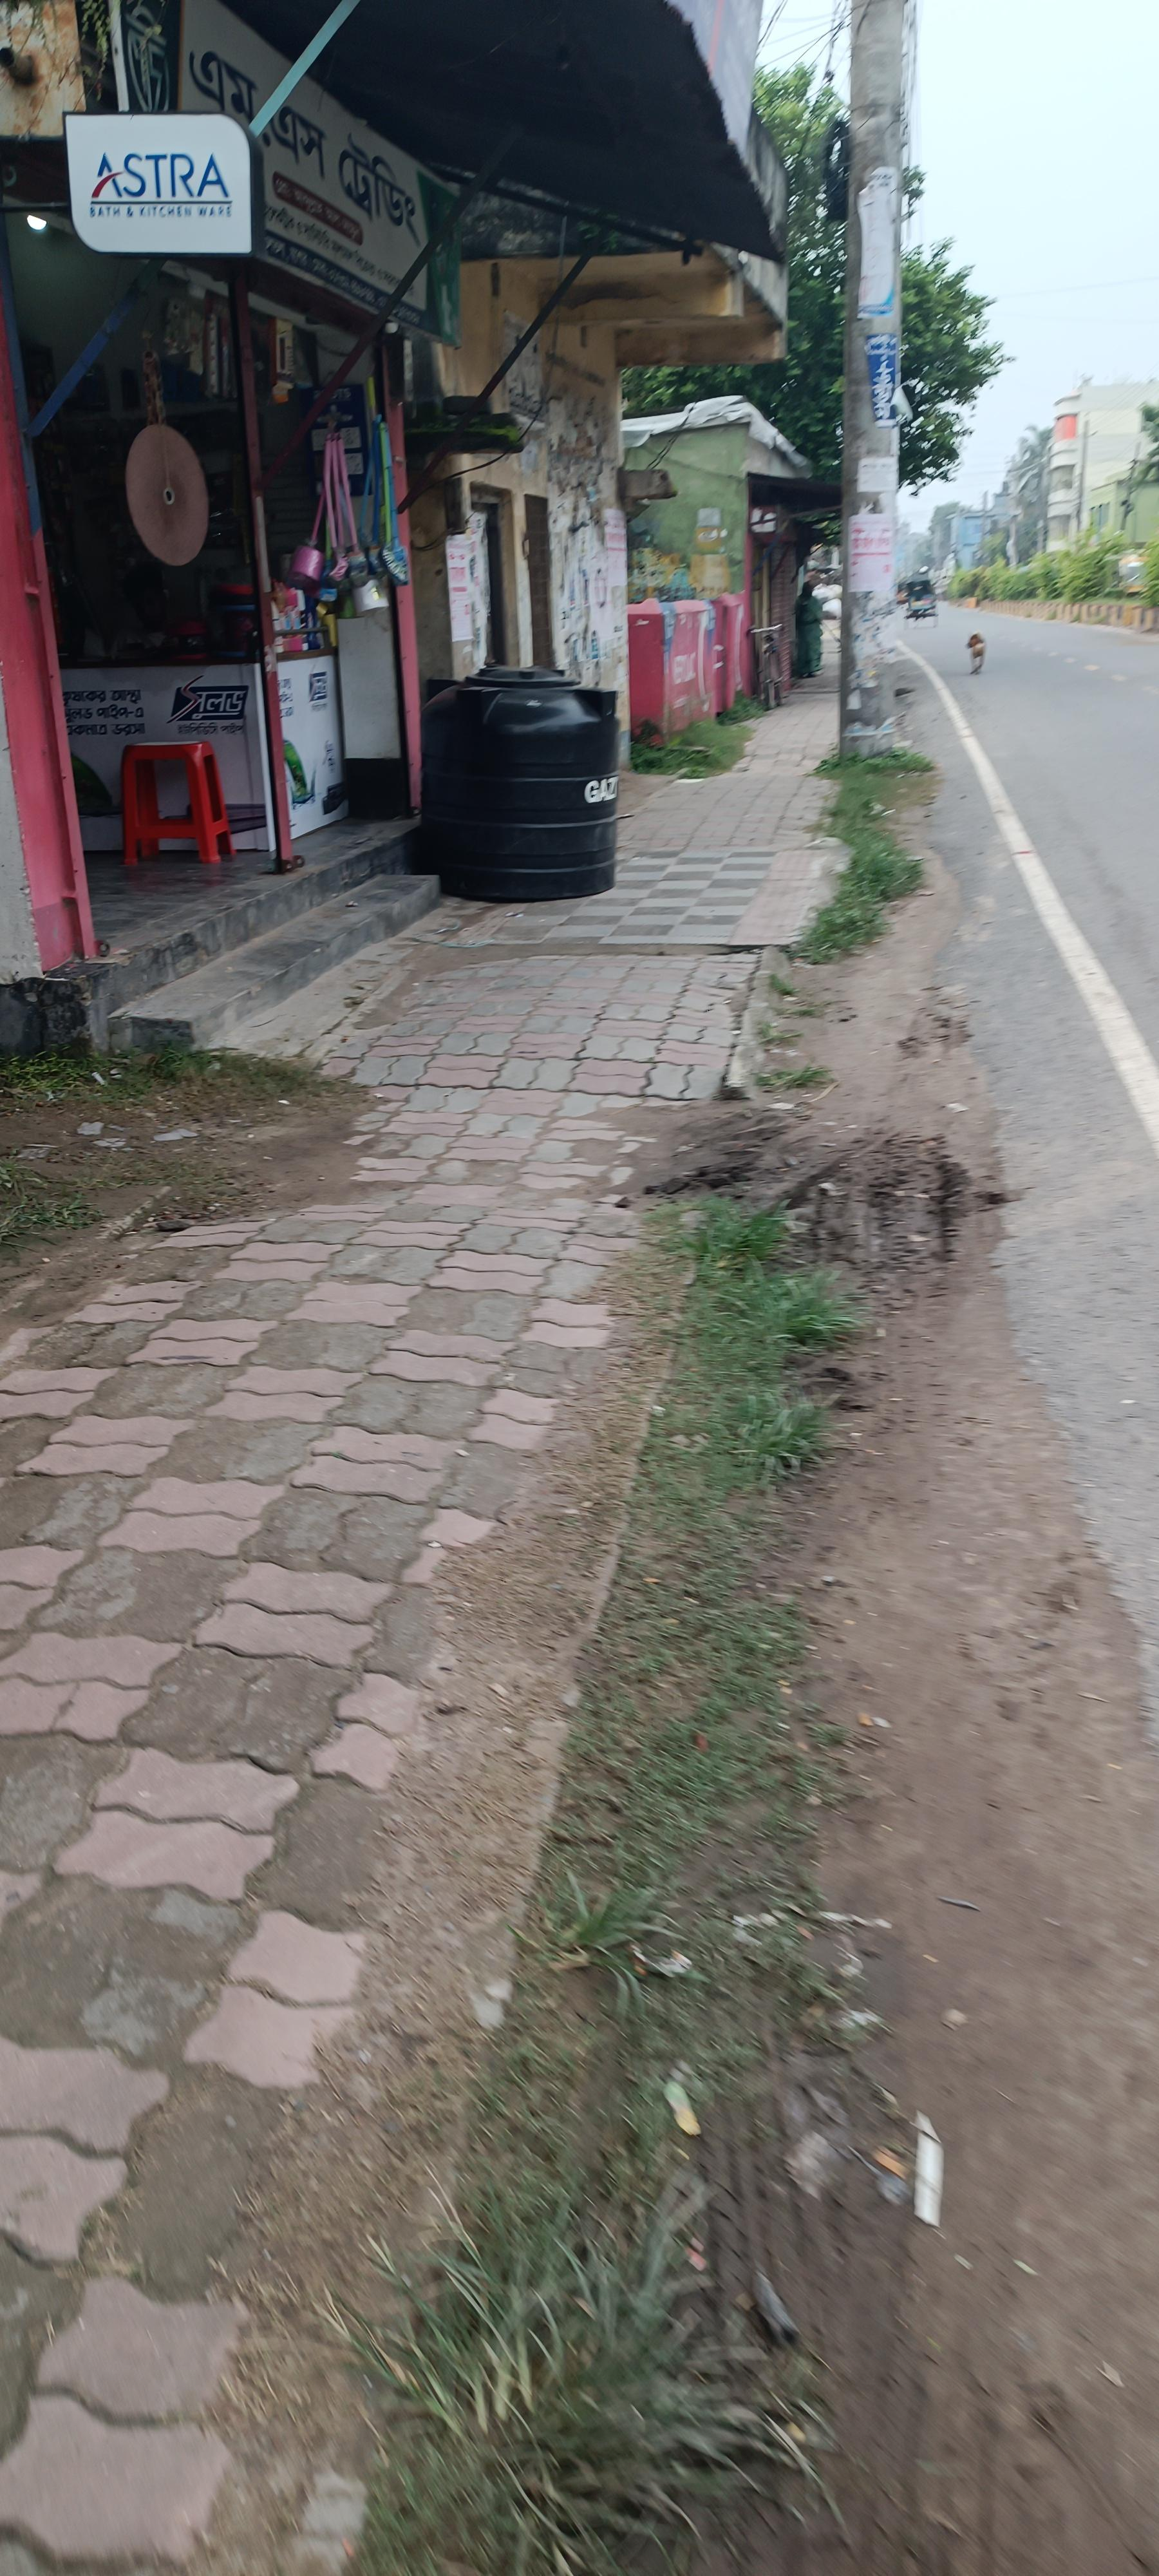Downstairs: (417, 659, 625, 904)
Garbage-bin: (795, 572, 826, 678)
Light-pole: (819, 46, 928, 889)
Pothole: (0, 831, 657, 2517)
